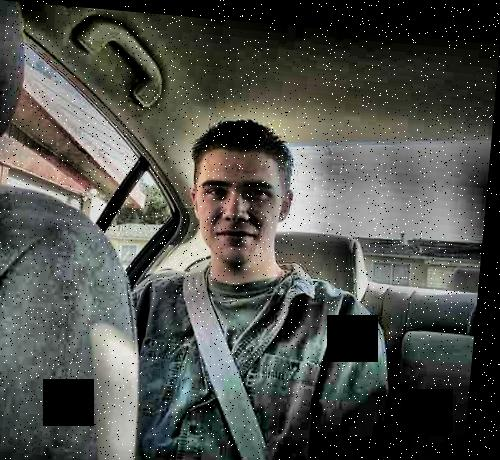seatbelt: (160, 244, 305, 460)
